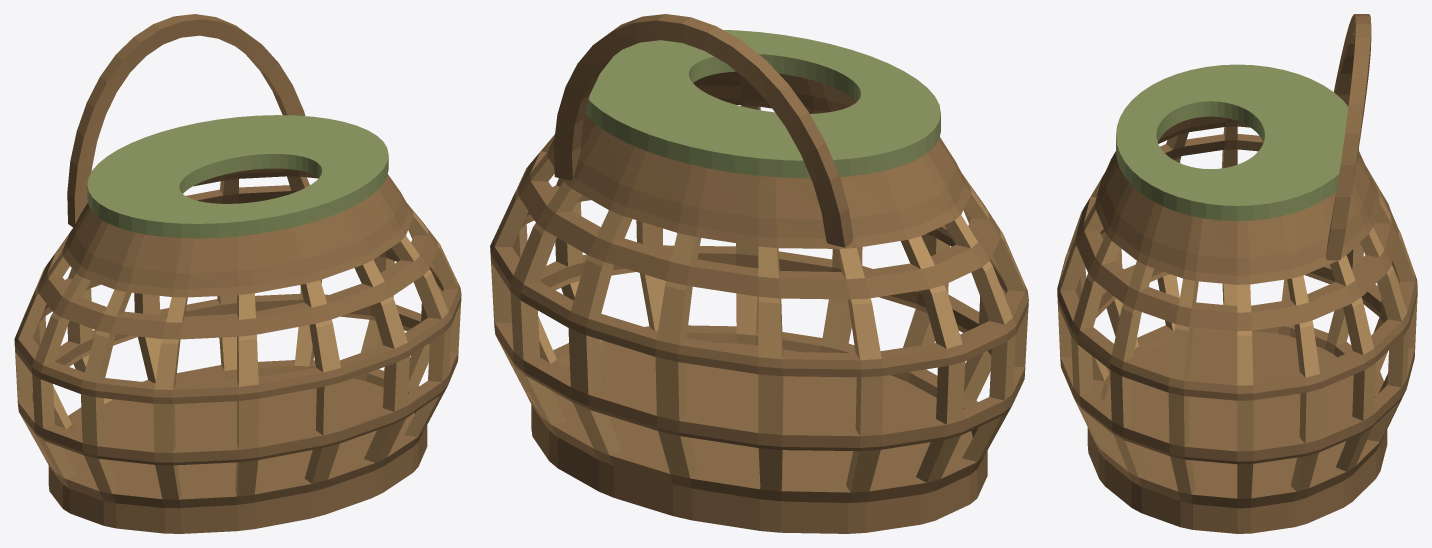
3 views of the same model, side by side, from view 1: azimuth 30°, elevation 25°; view 2: azimuth 150°, elevation 25°; view 3: azimuth 270°, elevation 25° (orthographic). The views are drawn at different scales.
Visible parts, largest first — view 1: Welded_ThroughWindow_BellyShoulderNeck, Fixed_ThickLid_TrueOvalDropOpening, Complete_Thick_Flat_OvalFloor, RearOffset_ThickArchHandle; view 2: Welded_ThroughWindow_BellyShoulderNeck, Complete_Thick_Flat_OvalFloor, Fixed_ThickLid_TrueOvalDropOpening, RearOffset_ThickArchHandle; view 3: Welded_ThroughWindow_BellyShoulderNeck, Fixed_ThickLid_TrueOvalDropOpening, Complete_Thick_Flat_OvalFloor, RearOffset_ThickArchHandle.
Part boxes in pixels (bbox=[...]): Welded_ThroughWindow_BellyShoulderNeck: bbox=[14, 168, 461, 508]; Fixed_ThickLid_TrueOvalDropOpening: bbox=[87, 115, 388, 238]; Complete_Thick_Flat_OvalFloor: bbox=[48, 375, 427, 533]; RearOffset_ThickArchHandle: bbox=[67, 14, 305, 227]; Welded_ThroughWindow_BellyShoulderNeck: bbox=[490, 71, 1028, 502]; Complete_Thick_Flat_OvalFloor: bbox=[531, 343, 987, 533]; Fixed_ThickLid_TrueOvalDropOpening: bbox=[585, 30, 940, 178]; RearOffset_ThickArchHandle: bbox=[553, 14, 853, 247]; Welded_ThroughWindow_BellyShoulderNeck: bbox=[1057, 116, 1417, 508]; Fixed_ThickLid_TrueOvalDropOpening: bbox=[1116, 64, 1358, 221]; Complete_Thick_Flat_OvalFloor: bbox=[1087, 330, 1387, 533]; RearOffset_ThickArchHandle: bbox=[1325, 14, 1371, 260].
Size of the model in its own units: 0.65 by 0.607 by 0.472.
